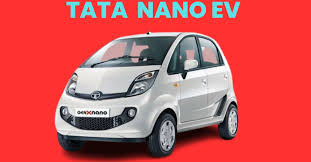Nano: (54, 32, 238, 156)
